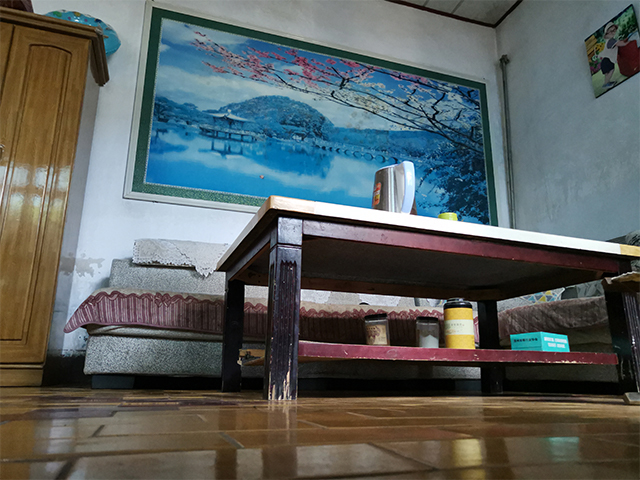cabinet: (1, 1, 114, 388)
sofa: (61, 228, 640, 391)
table: (214, 192, 640, 401)
